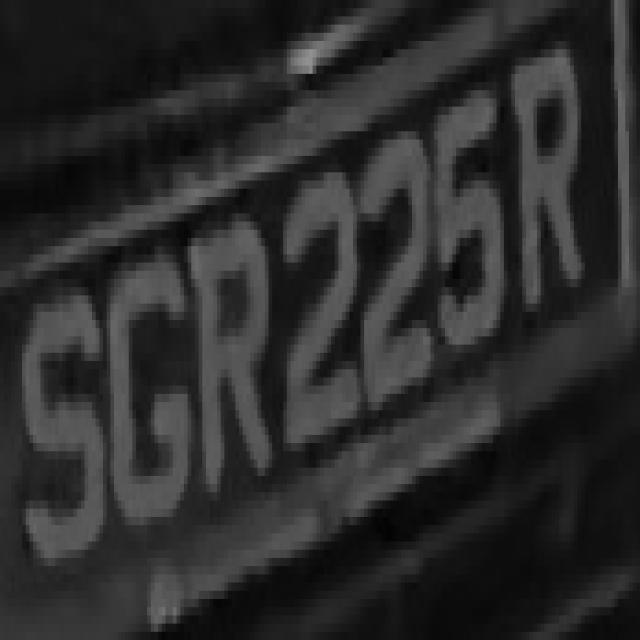2: (342, 90, 434, 427), (261, 172, 368, 460)
5: (427, 41, 508, 369)
G: (99, 238, 195, 525)
R: (500, 41, 589, 361), (176, 205, 268, 509)
S: (19, 262, 110, 582)
